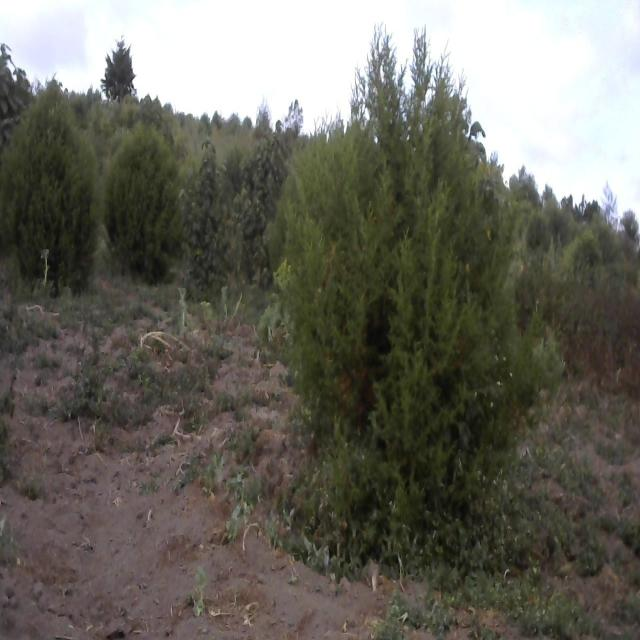cedrus: (274, 31, 518, 558), (0, 82, 98, 291), (105, 124, 181, 282), (101, 38, 136, 101)
other: (179, 138, 241, 298), (238, 118, 294, 290), (0, 43, 34, 144)
